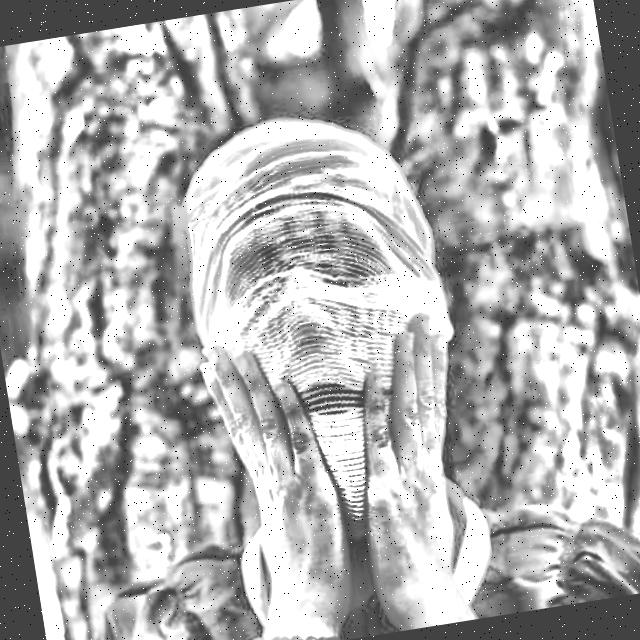neutral: (140, 102, 476, 586)
